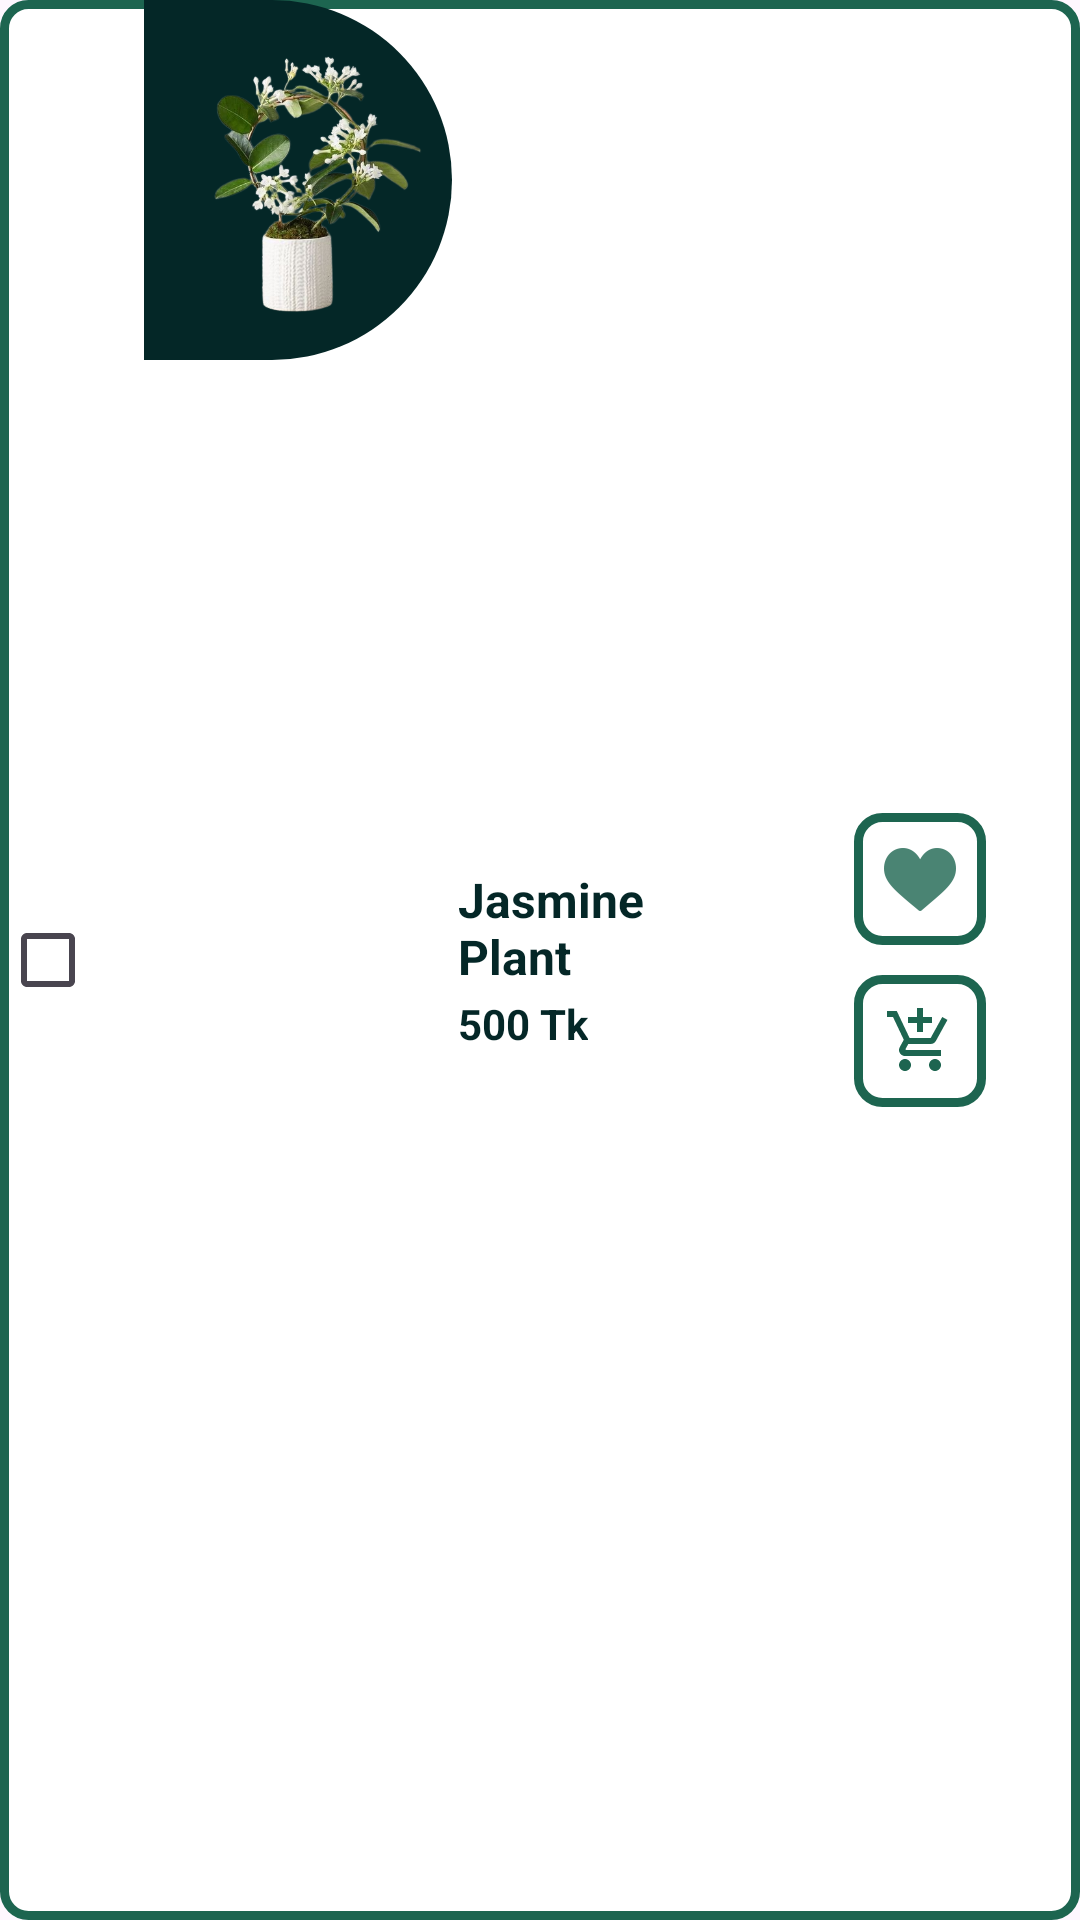

Icon click points for this 1080×1920 phone screenshot, format [x,y]:
Add to cart: [920,1041]
jasmine: [298,180]
Remove heart: [920,879]
